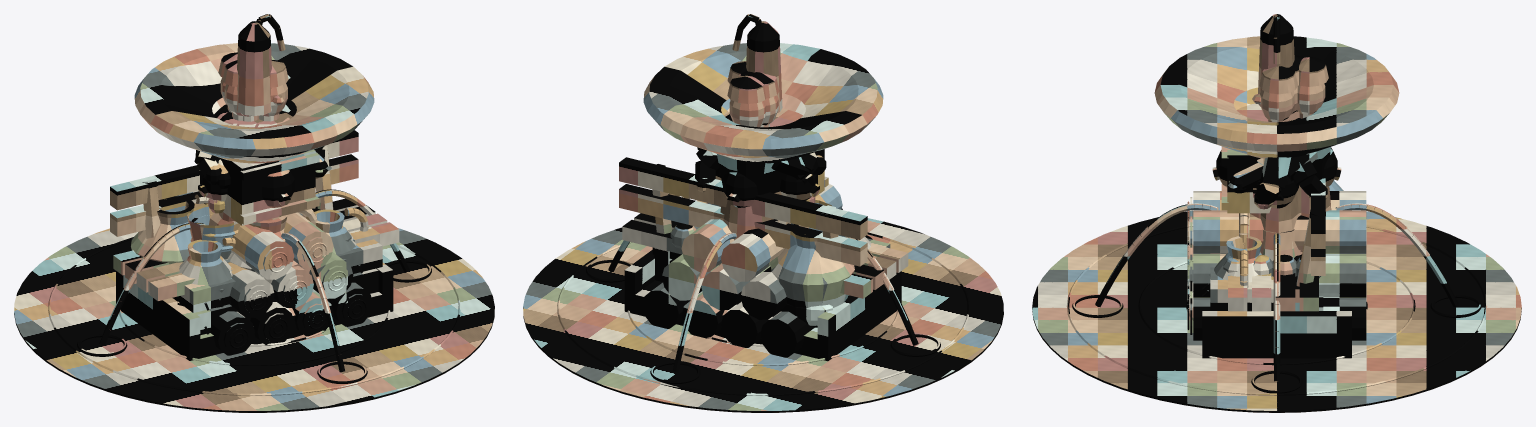
File: market.glb
3 renders of one model, left to right at view 1: azimuth 30°, elevation 25°; view 2: azimuth 150°, elevation 25°; view 3: azimuth 270°, elevation 25°, orthographic.
Visible parts, largest first — view 1: water_flow_01, fountain_ornament_01, firewood_01, bench_01, goods_pottery_01, citizen_carrying_01, goods_food_01, goods_cloth_01, citizen_basket_01, citizen_merchant_01; view 2: water_flow_01, fountain_ornament_01, bench_01, firewood_01, citizen_carrying_01, goods_pottery_01, goods_food_01, goods_cloth_01, citizen_merchant_01, citizen_walking_01; view 3: water_flow_01, fountain_ornament_01, firewood_01, goods_pottery_01, citizen_basket_01, bench_01, citizen_carrying_01, goods_cloth_01, goods_food_01, citizen_walking_01, citizen_merchant_01.
Boxes of the visible parts, bbox=[...] form: water_flow_01: bbox=[14, 14, 494, 412]; fountain_ornament_01: bbox=[134, 21, 374, 338]; firewood_01: bbox=[175, 190, 372, 355]; bench_01: bbox=[110, 130, 399, 300]; goods_pottery_01: bbox=[131, 194, 393, 360]; citizen_carrying_01: bbox=[195, 52, 319, 225]; goods_food_01: bbox=[116, 208, 392, 360]; goods_cloth_01: bbox=[116, 239, 391, 338]; citizen_basket_01: bbox=[187, 60, 324, 262]; citizen_merchant_01: bbox=[194, 60, 331, 184]; water_flow_01: bbox=[523, 14, 1003, 412]; fountain_ornament_01: bbox=[643, 21, 883, 337]; bench_01: bbox=[619, 157, 908, 298]; firewood_01: bbox=[642, 183, 842, 357]; citizen_carrying_01: bbox=[710, 75, 828, 240]; goods_pottery_01: bbox=[624, 197, 871, 338]; goods_food_01: bbox=[635, 223, 901, 360]; goods_cloth_01: bbox=[625, 200, 890, 361]; citizen_merchant_01: bbox=[747, 72, 826, 194]; citizen_walking_01: bbox=[695, 71, 815, 192]; water_flow_01: bbox=[1032, 14, 1521, 412]; fountain_ornament_01: bbox=[1154, 14, 1399, 297]; firewood_01: bbox=[1187, 191, 1366, 340]; goods_pottery_01: bbox=[1202, 180, 1351, 358]; citizen_basket_01: bbox=[1252, 66, 1302, 260]; bench_01: bbox=[1228, 178, 1325, 311]; citizen_carrying_01: bbox=[1221, 57, 1331, 217]; goods_cloth_01: bbox=[1202, 253, 1351, 357]; goods_food_01: bbox=[1202, 254, 1351, 315]; citizen_walking_01: bbox=[1289, 61, 1327, 199]; citizen_merchant_01: bbox=[1228, 55, 1303, 193].
Bounding box in the file's own units: 3.28 × 2.21 × 3.28.
1 material, 1 textured.
